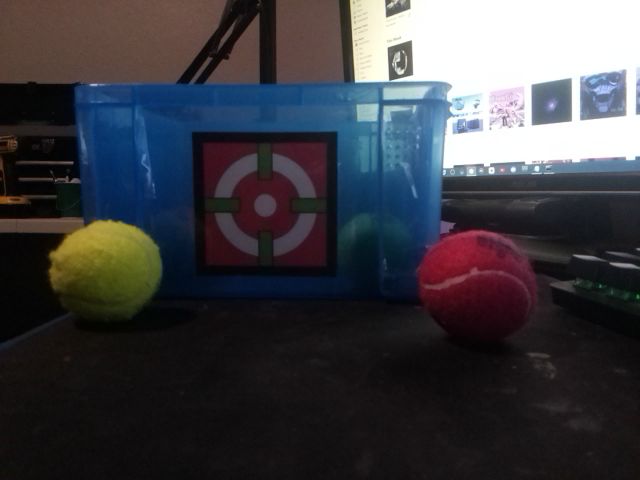drop-bin: (191, 131, 338, 278)
red-ball: (417, 228, 539, 349)
yellow-ball: (47, 218, 163, 326)
